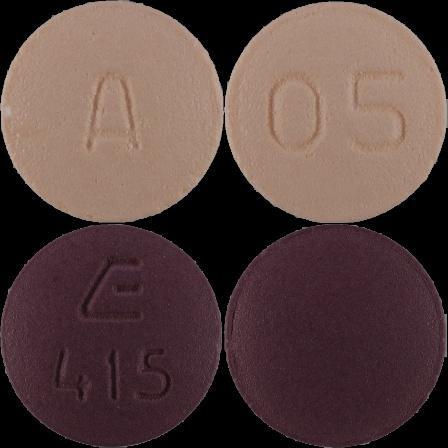0185-0371: (0, 0, 224, 224)
